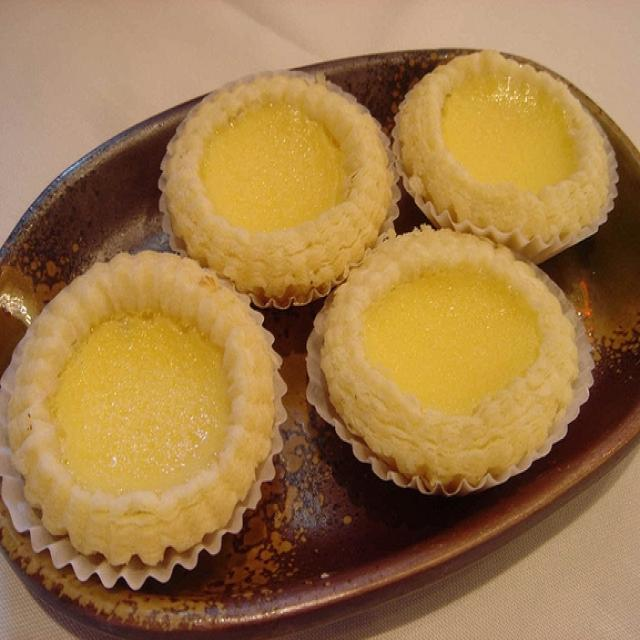炸货点心: (10, 24, 638, 608)
蛋糕甜品: (10, 24, 638, 608)
